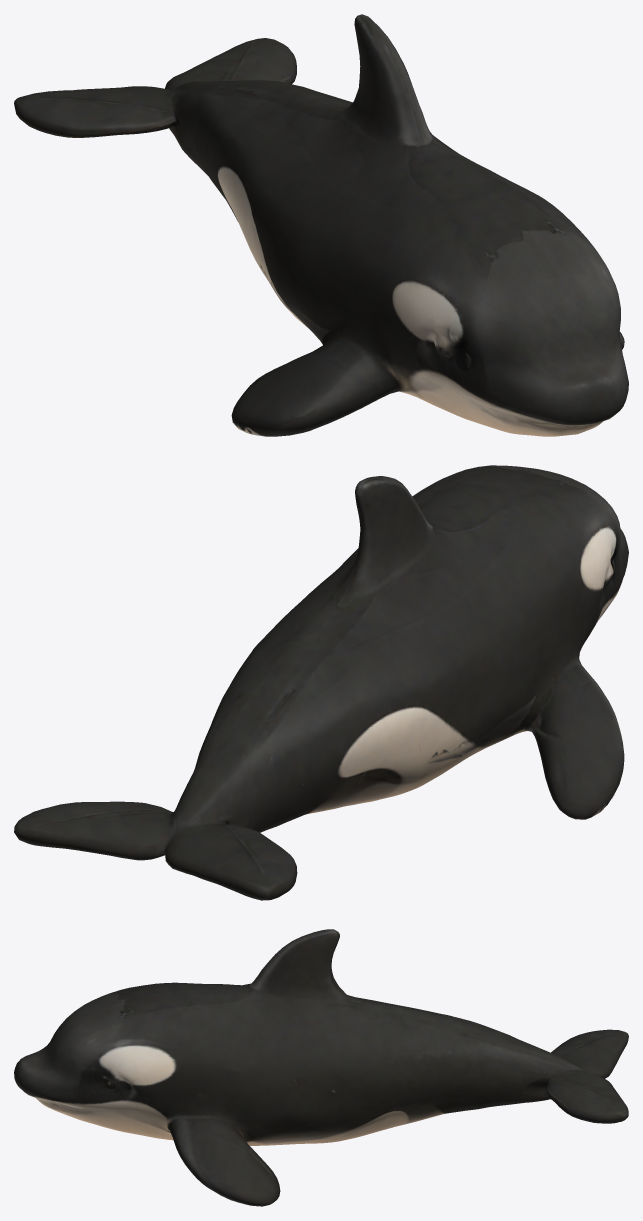
File: Orca.fbx
3 renders of one model, top to bottom at view 1: azimuth 30°, elevation 25°; view 2: azimuth 150°, elevation 25°; view 3: azimuth 270°, elevation 25°, orthographic. The views are drawn at different scales.
Visible parts, largest first — view 1: Mesh1; view 2: Mesh1; view 3: Mesh1.
Boxes of the visible parts, left/top/right/bottom form: Mesh1: left=14, top=14, right=628, bottom=436; Mesh1: left=14, top=465, right=628, bottom=900; Mesh1: left=14, top=929, right=628, bottom=1206.
Size of the model in its own units: 91.86 by 79.21 by 200.
Materials: 1 (1 with a texture image).
